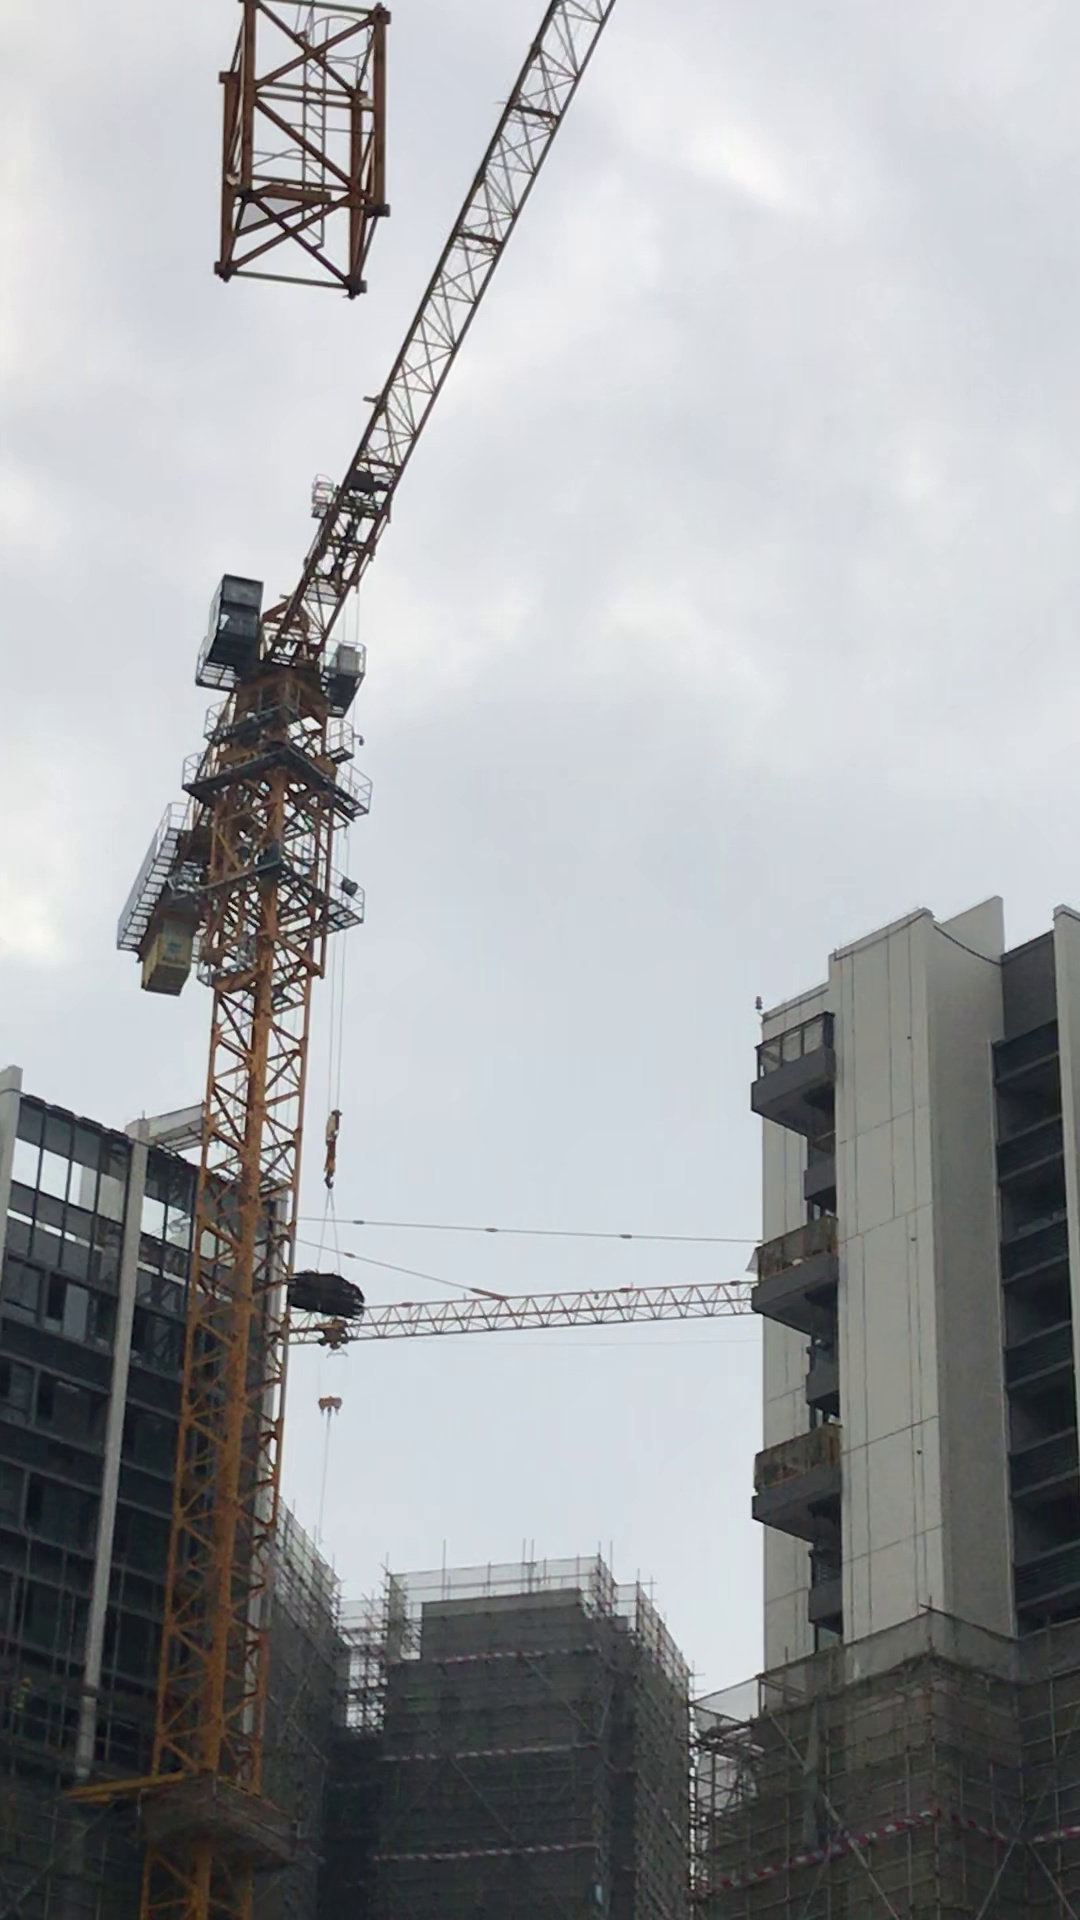board: (284, 1269, 367, 1321)
hook: (318, 1116, 349, 1189), (320, 1320, 353, 1352), (318, 1391, 349, 1414)
